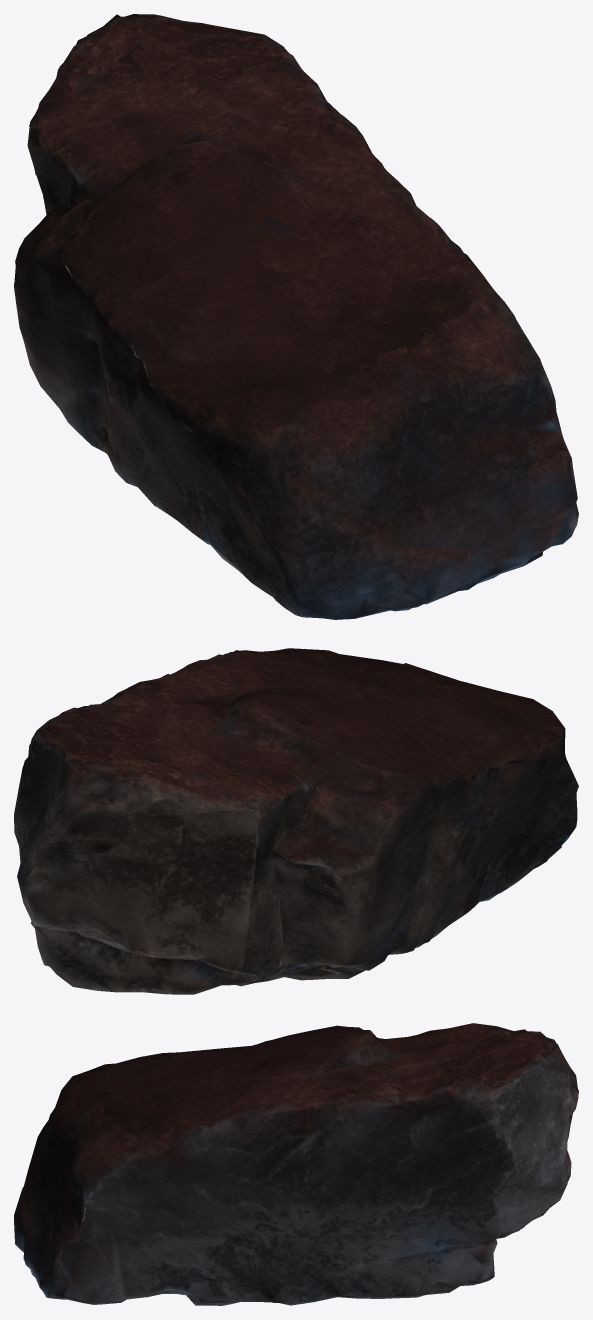
The model's file is ph_rock_a.gltf.
3 views of the same model, one above another, from view 1: azimuth 30°, elevation 25°; view 2: azimuth 150°, elevation 25°; view 3: azimuth 270°, elevation 25° (orthographic). The views are drawn at different scales.
Parts seen in each view (by area): view 1: ph_rock_a; view 2: ph_rock_a; view 3: ph_rock_a.
Boxes of the visible parts, x1,y1,x2,y2 form: ph_rock_a: (14,14,578,619); ph_rock_a: (14,648,578,994); ph_rock_a: (14,1023,578,1305).
Size of the model in its own units: 0.1687 by 0.1437 by 0.3202.
1 material, 1 textured.
